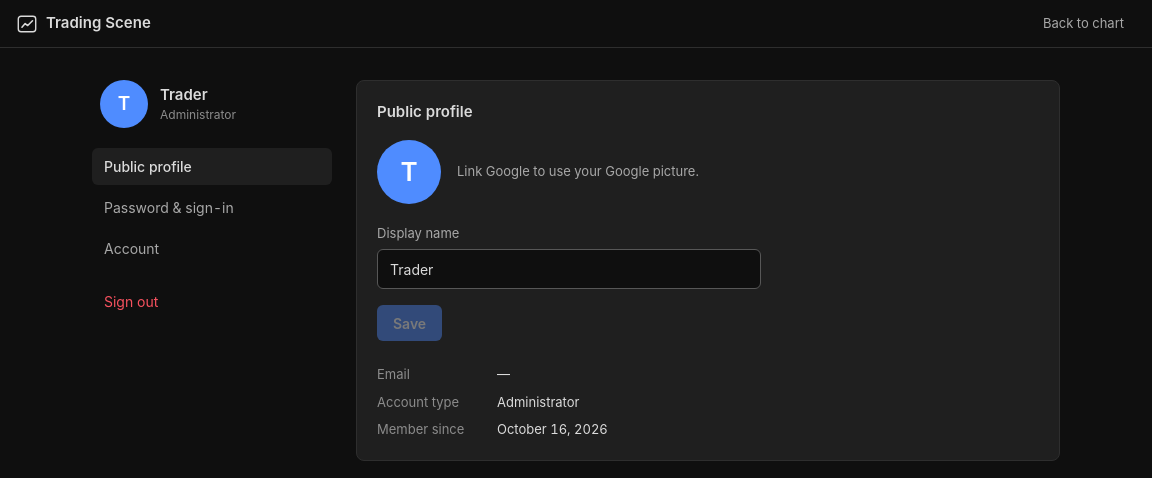
it: the administrator's account cannot be deleted from the profile
Click the button "Account".
click(212, 248)  # box [92, 230, 332, 267]
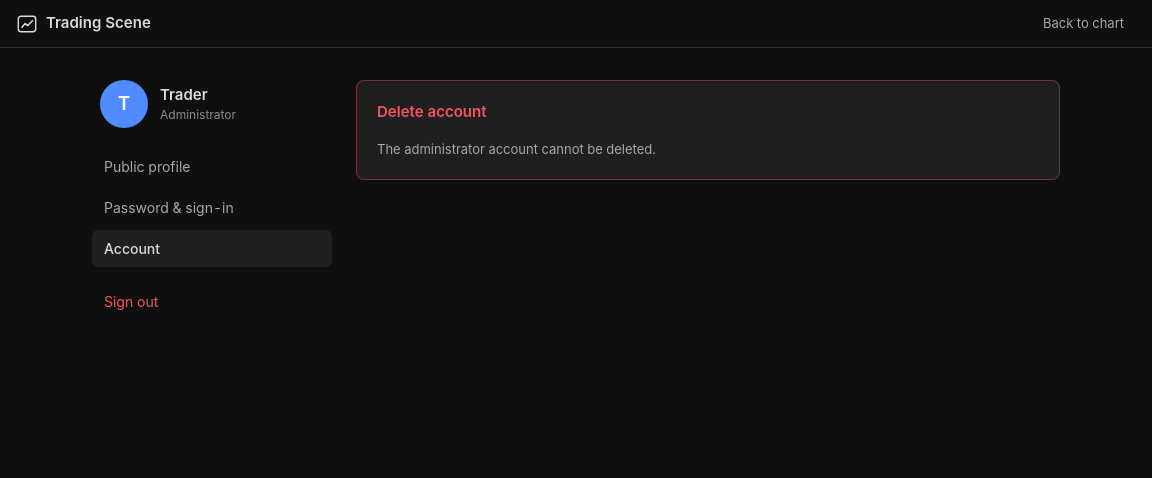
Expected: the text "The administrator account cannot be deleted." is shown, [377, 140, 656, 156]
